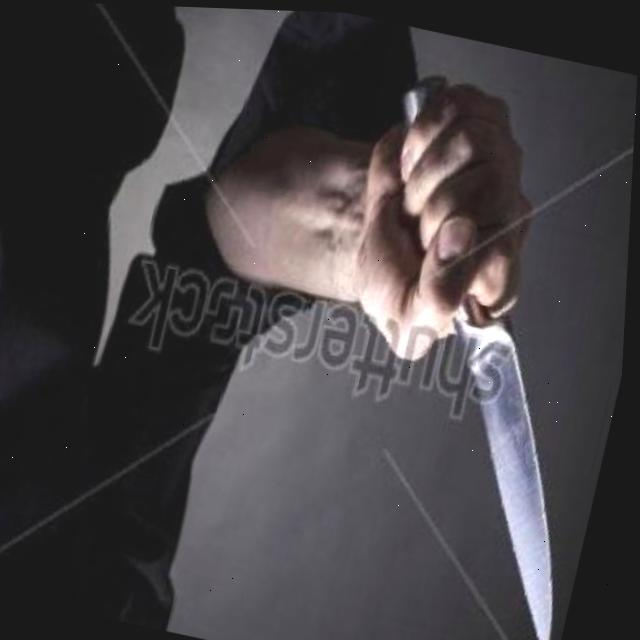knife: (292, 64, 638, 640)
